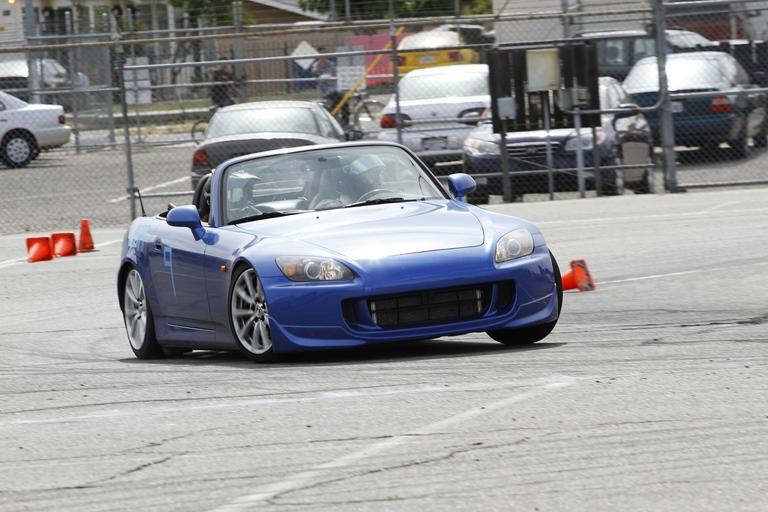non-vehicle: (315, 89, 386, 139), (192, 106, 222, 144)
